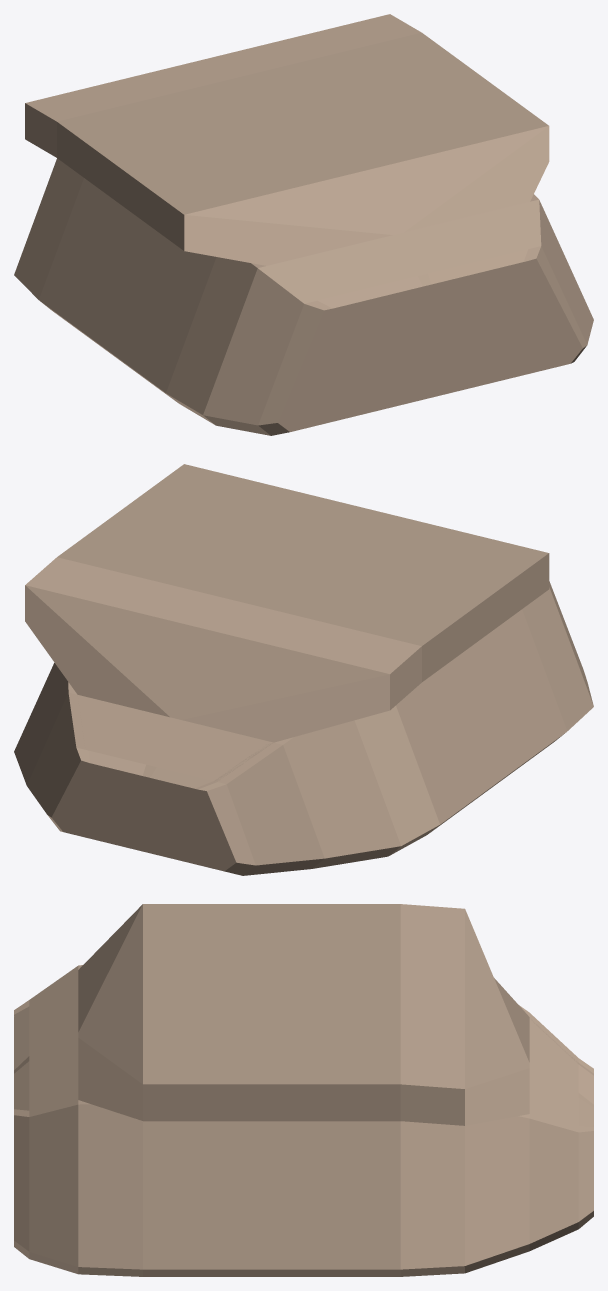
File: orrin_oddball_a.glb
3 renders of one model, top to bottom at view 1: azimuth 30°, elevation 25°; view 2: azimuth 150°, elevation 25°; view 3: azimuth 270°, elevation 25°, orthographic.
Visible parts, largest first — view 1: orrin_oddball_a; view 2: orrin_oddball_a; view 3: orrin_oddball_a.
Boxes of the visible parts, x1,y1,x2,y2 form: orrin_oddball_a: (14,14,593,435); orrin_oddball_a: (14,464,593,875); orrin_oddball_a: (14,904,593,1276).
Size of the model in its own units: 5.1 by 2.28 by 6.3.
